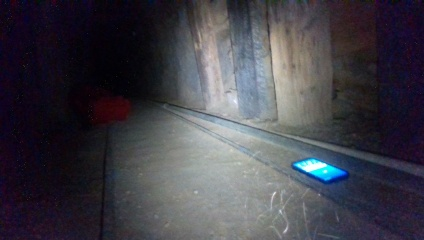backpack: (86, 92, 131, 125)
cellphone: (291, 157, 351, 186)
